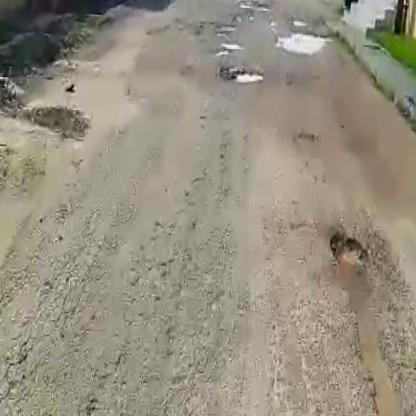pothole: (328, 227, 372, 285), (272, 29, 328, 57), (226, 67, 268, 88)
